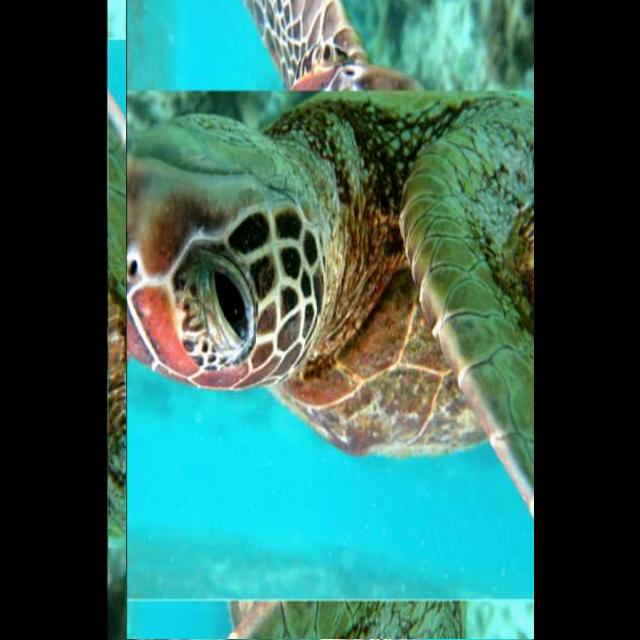Sea turtle: (126, 0, 534, 639)
